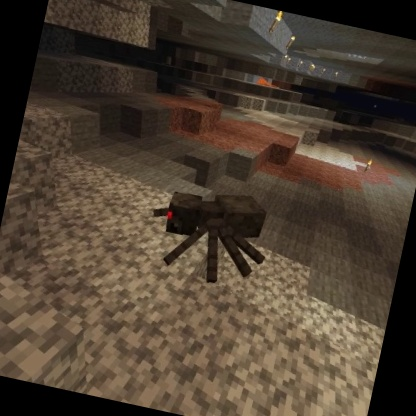spider: (138, 174, 279, 297)
